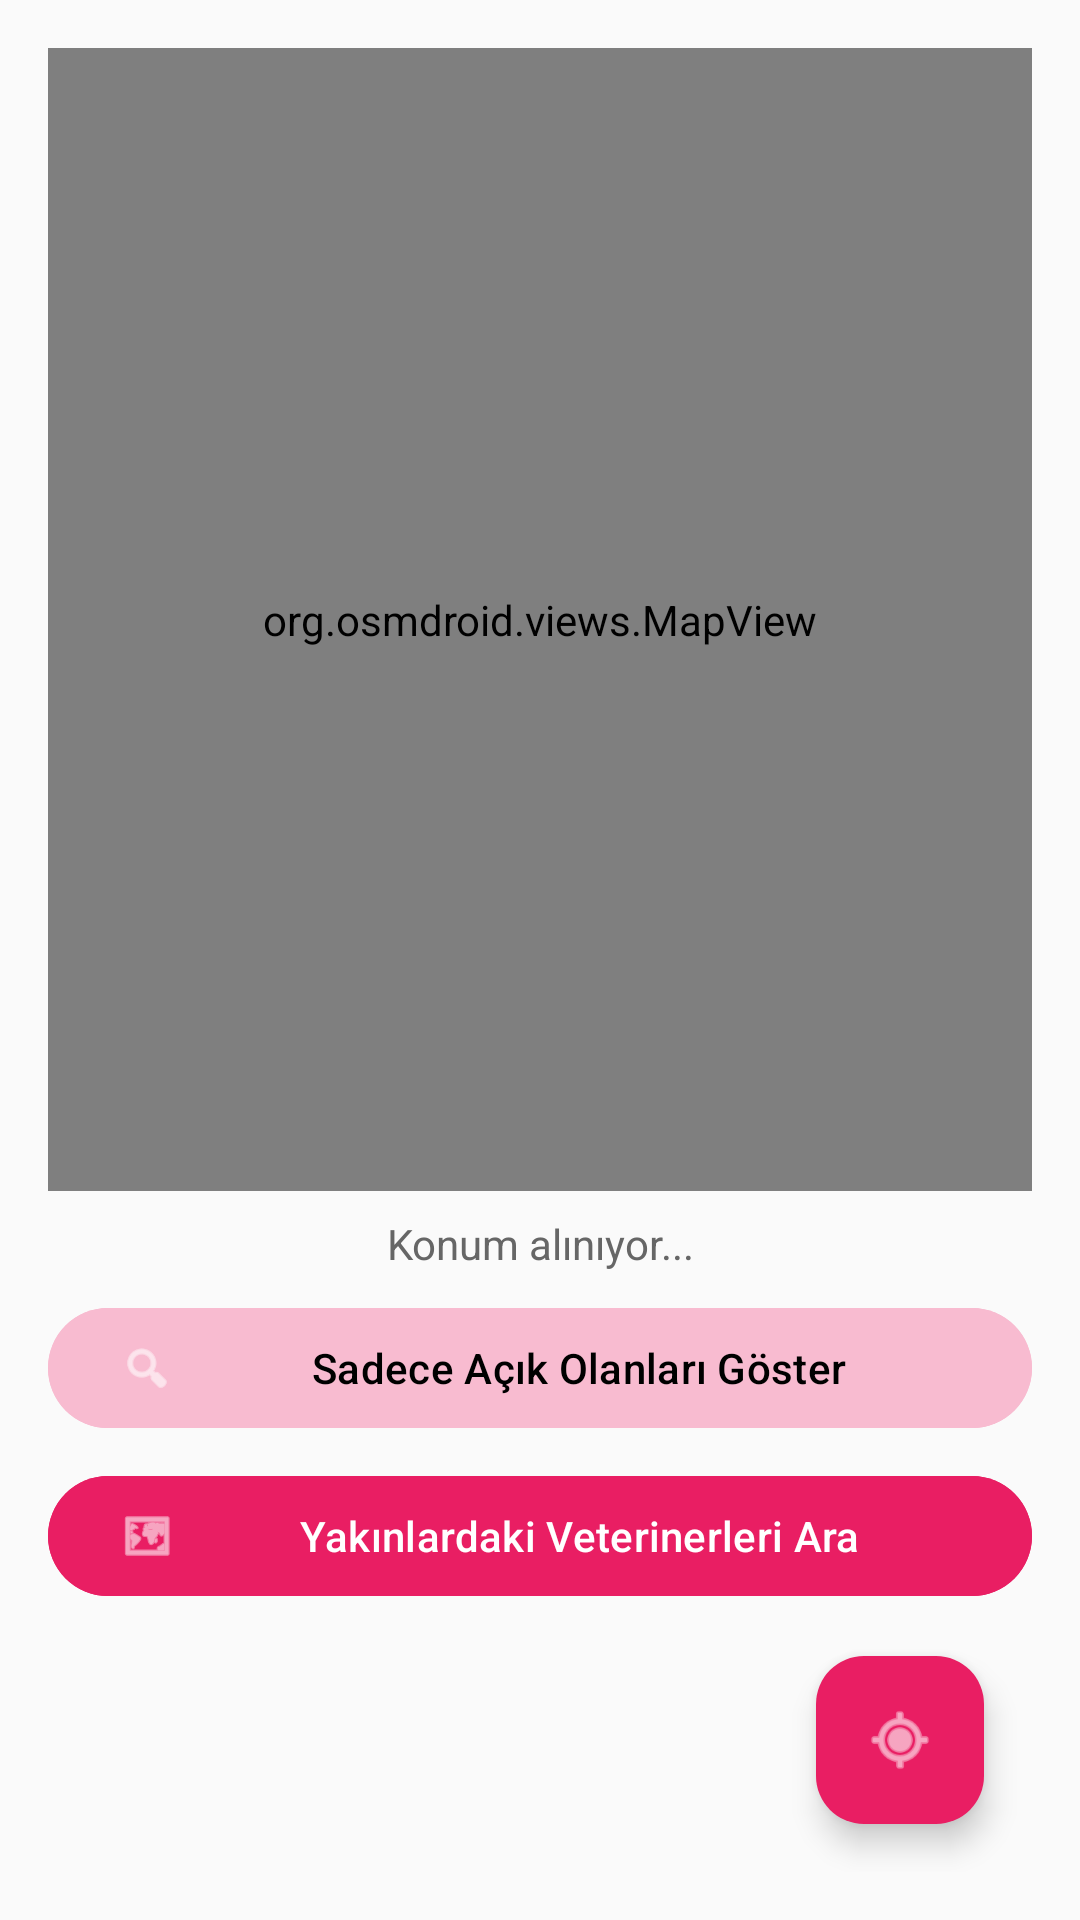

Named icons in this screenshot (1080 × 1920) and their bounding boxes, (x1, y1, x2, y2):
Konuma dön: (816, 1656, 984, 1824)
